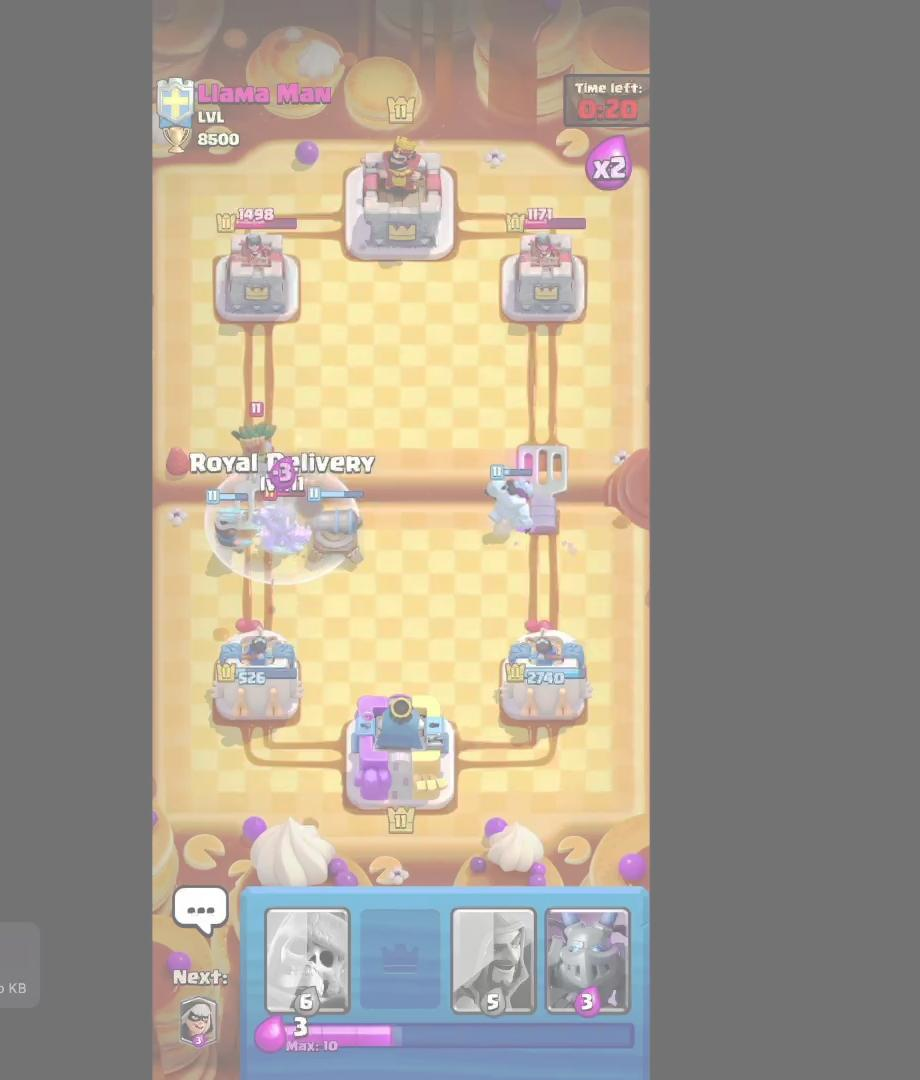Dart Goblin: (235, 396, 282, 480)
Hog Rider: (258, 489, 316, 565)
